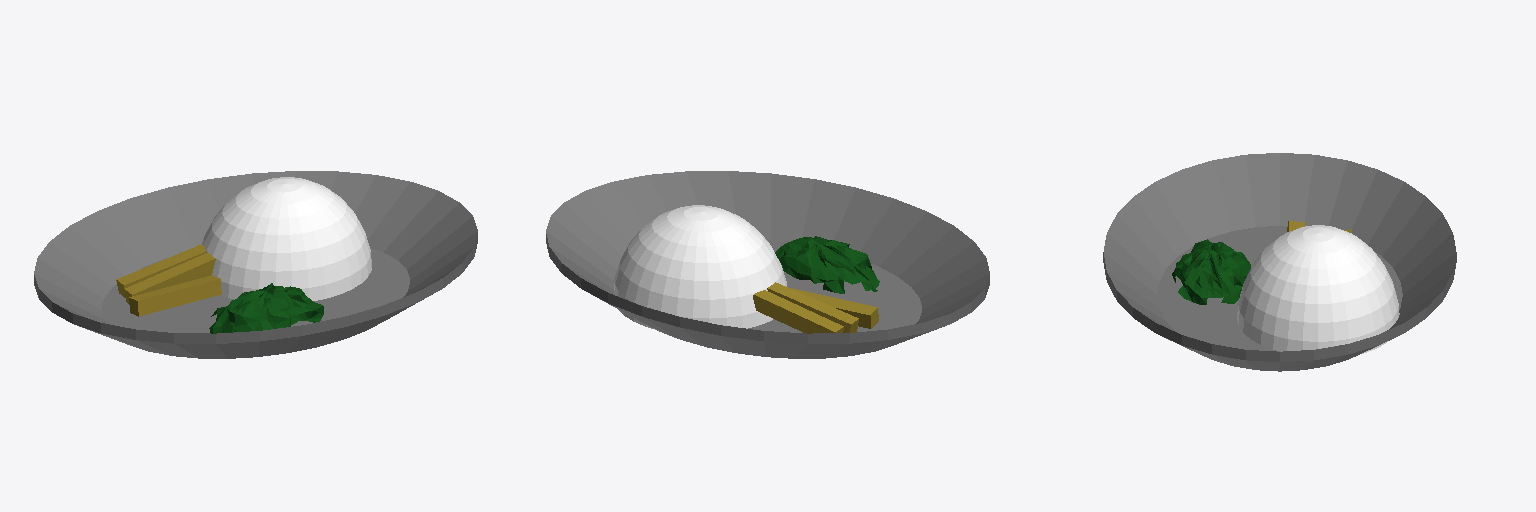
File: rice3_meat1_veg1.obj
The picture shows the model from 3 angles: view 1: azimuth 30°, elevation 25°; view 2: azimuth 150°, elevation 25°; view 3: azimuth 270°, elevation 25°; orthographic projection.
Parts seen in each view (by area): view 1: Cylinder, Sphere, Sphere.001, Cube.002_Cube.003, Cube.001_Cube.002, Cube_Cube.001; view 2: Cylinder, Sphere, Sphere.001, Cube_Cube.001, Cube.001_Cube.002, Cube.002_Cube.003; view 3: Cylinder, Sphere, Sphere.001.
Part boxes in pixels (x1,y1,x2,y2): Cylinder: (34, 171, 477, 358); Sphere: (202, 177, 371, 300); Sphere.001: (209, 283, 323, 333); Cube.002_Cube.003: (129, 275, 221, 316); Cube.001_Cube.002: (124, 253, 215, 303); Cube_Cube.001: (116, 244, 206, 297); Cylinder: (546, 171, 989, 358); Sphere: (614, 205, 786, 330); Sphere.001: (775, 236, 879, 293); Cube_Cube.001: (753, 290, 843, 333); Cube.001_Cube.002: (767, 282, 858, 332); Cube.002_Cube.003: (791, 288, 878, 328); Cylinder: (1103, 153, 1456, 371); Sphere: (1237, 225, 1399, 353); Sphere.001: (1172, 239, 1250, 304).
Bounding box in the file's own units: 5.75 × 1.25 × 4.31.